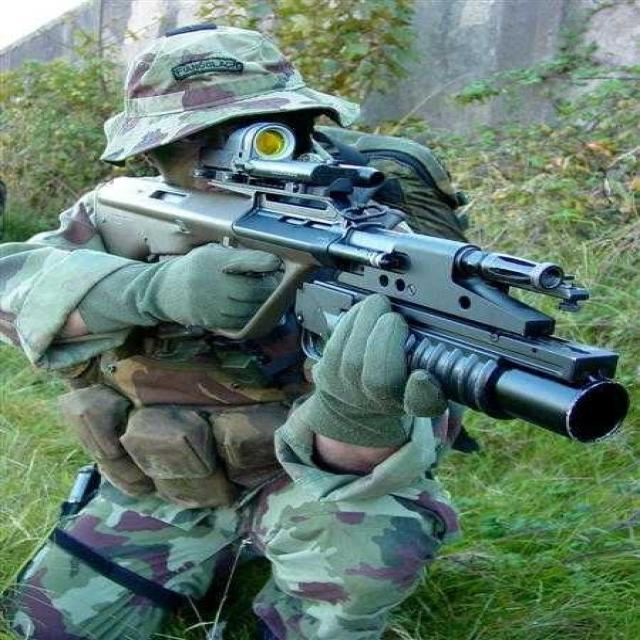RifleTel: (79, 117, 630, 462)
